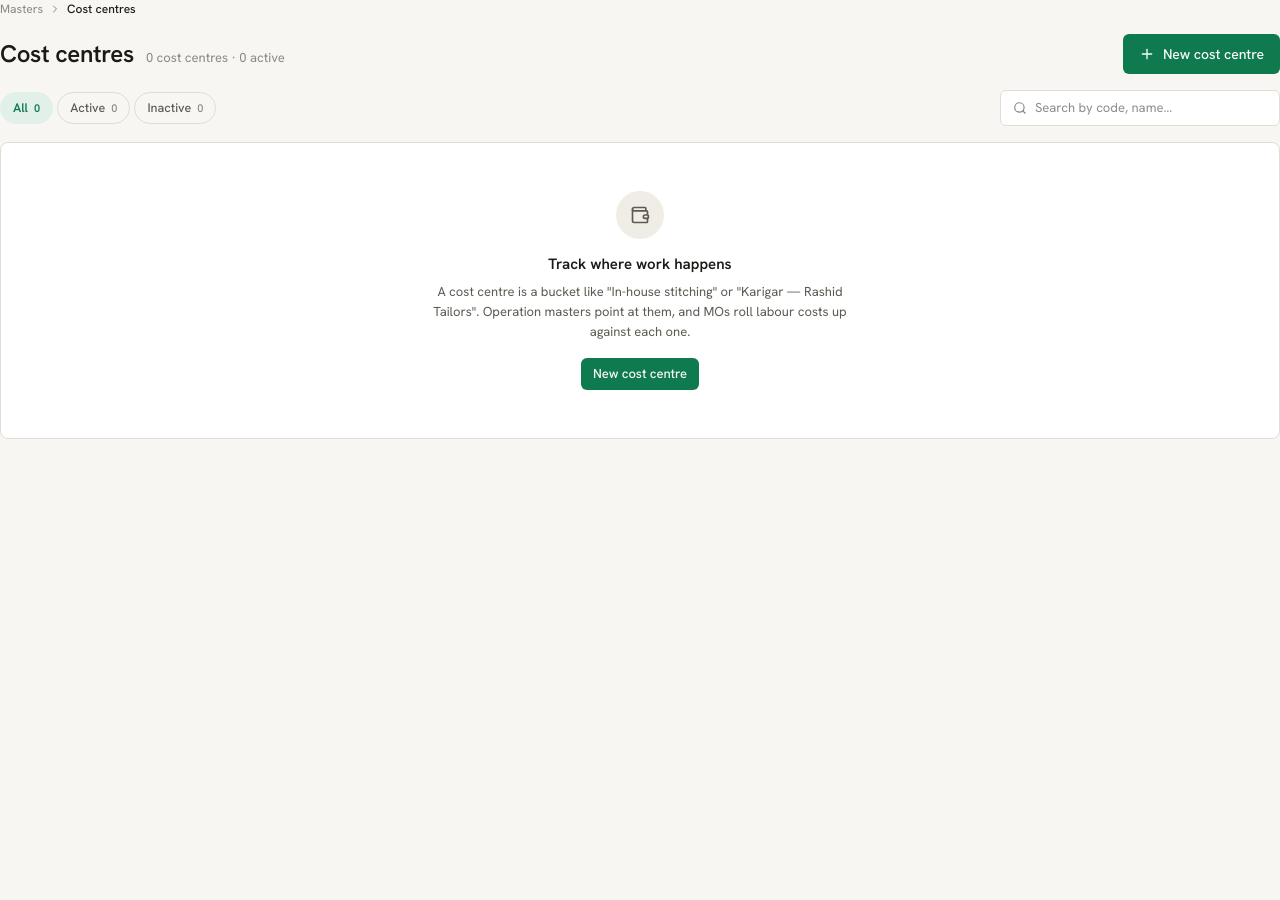
CostCentresList (live-mode integration, TASK-TR-E1-COSTCENTRES) › renders the empty-state CTA when GET /cost-centres returns no rows
Expected: the heading "Track where work happens" is shown, [548, 253, 732, 276]
Note: EmptyState CTA opens the dialog.
Click the button "New cost centre" below "Track where work happens": (640, 374) [581, 358, 699, 390]
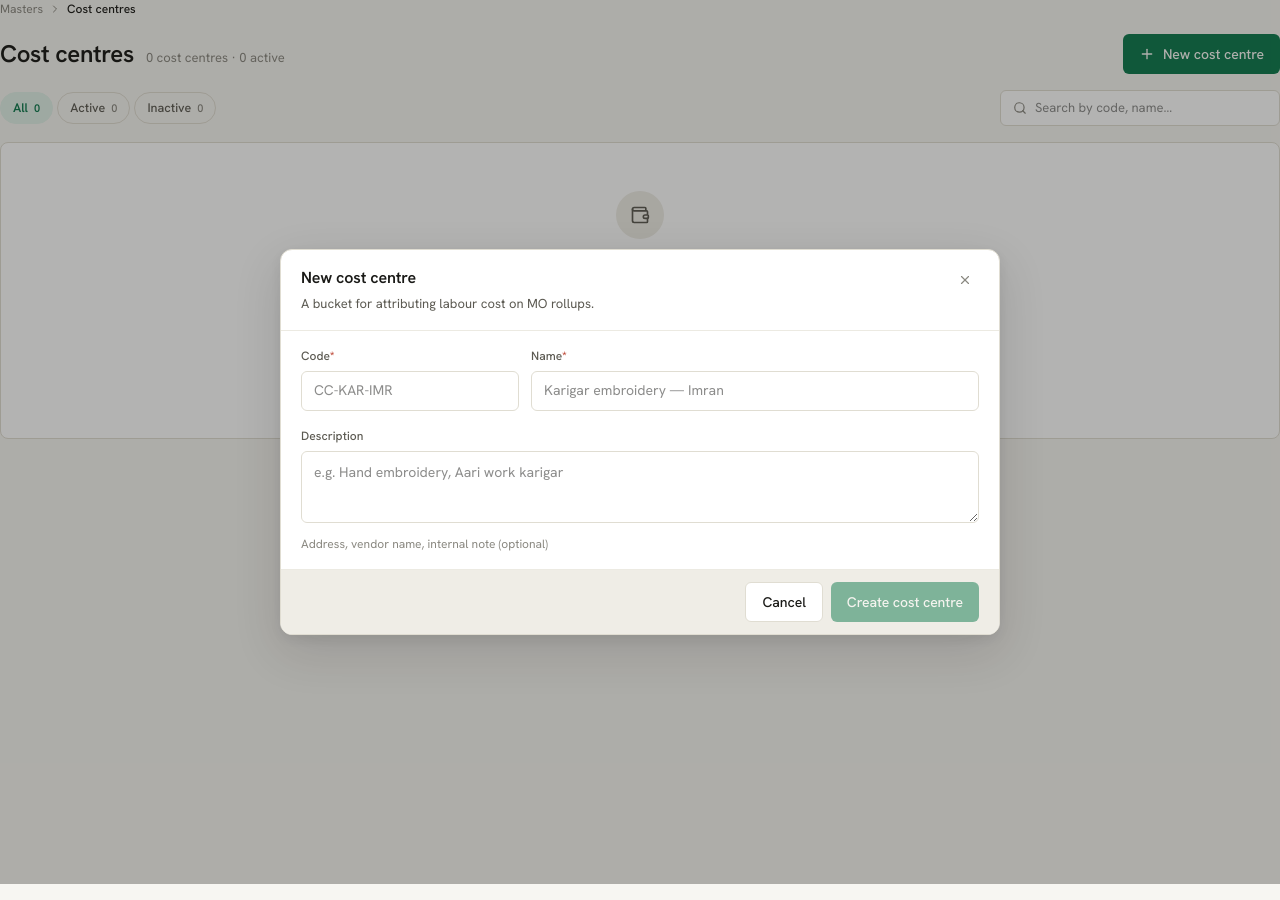
Result: the text "A bucket for attributing labour cost on MO rollups." is shown at [301, 295, 594, 312]
